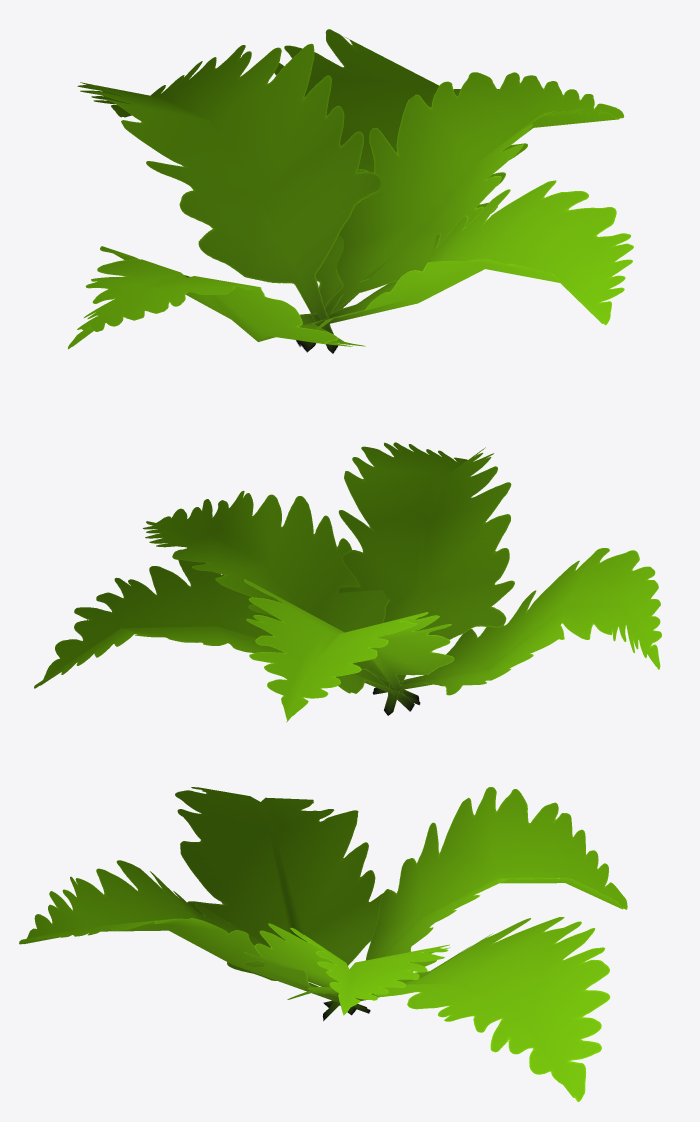
The model's file is fern3_lod0_001.fbx.
The picture shows the model from 3 angles, top to bottom: view 1: azimuth 30°, elevation 25°; view 2: azimuth 150°, elevation 25°; view 3: azimuth 270°, elevation 25°; orthographic projection. The views are drawn at different scales.
Parts seen in each view (by area): view 1: fern3_lod0.001; view 2: fern3_lod0.001; view 3: fern3_lod0.001.
Boxes of the visible parts, <box> form: fern3_lod0.001: <box>68,29,633,353</box>; fern3_lod0.001: <box>34,442,661,722</box>; fern3_lod0.001: <box>19,787,627,1101</box>.
Size of the model in its own units: 298 by 93.33 by 292.
